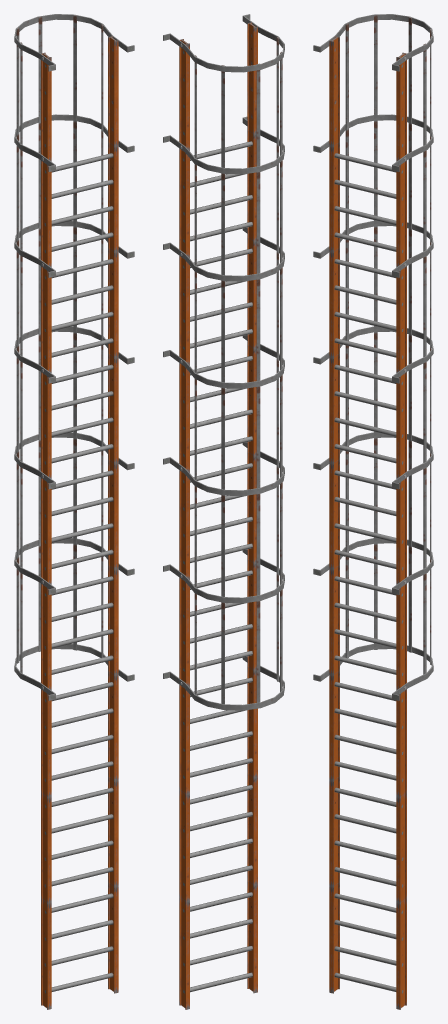
Rendered from LadderSection.002.fbx.
3 renders of one model, left to right at view 1: azimuth 30°, elevation 25°; view 2: azimuth 210°, elevation 25°; view 3: azimuth 330°, elevation 25°, orthographic.
Visible parts, largest first — view 1: Ladder_Section.002_LOD0; view 2: Ladder_Section.002_LOD0; view 3: Ladder_Section.002_LOD0.
Part boxes in pixels (x1=…): Ladder_Section.002_LOD0: x1=14, y1=14, x2=134, y2=1009; Ladder_Section.002_LOD0: x1=163, y1=14, x2=284, y2=1009; Ladder_Section.002_LOD0: x1=313, y1=14, x2=433, y2=1009.
Size of what is drawn, in the model's own units: 0.8472 by 9 by 0.9229.
